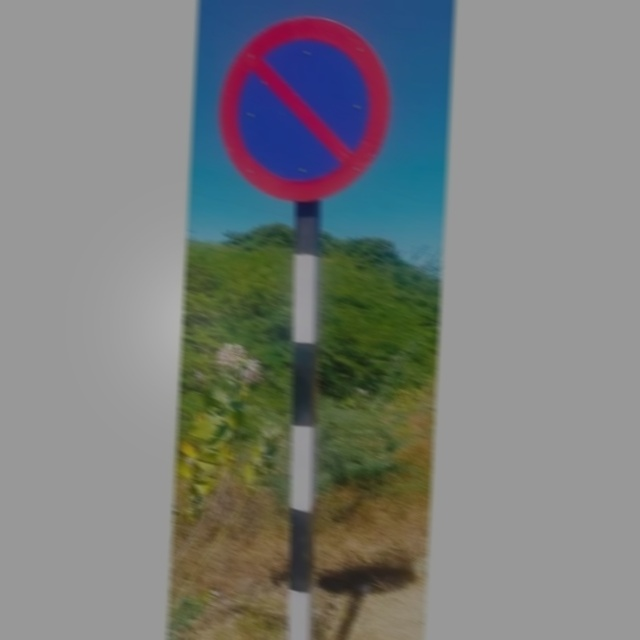No_Stopping_or_Standing: (223, 14, 386, 203)
